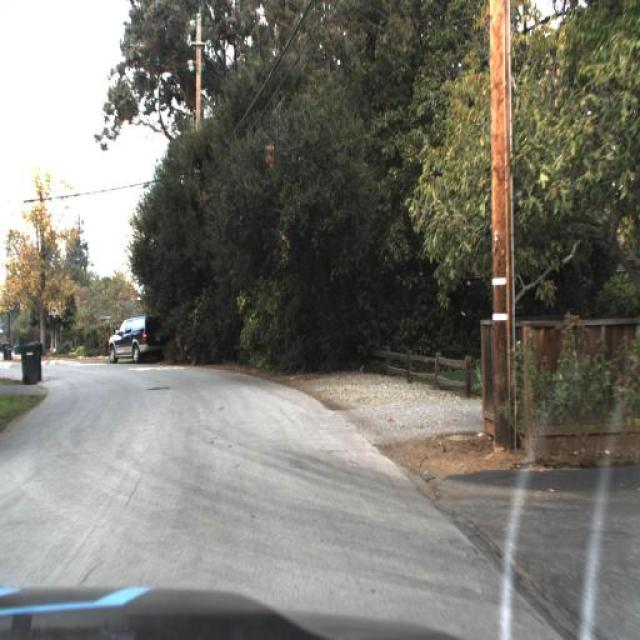car: (100, 310, 168, 370)
